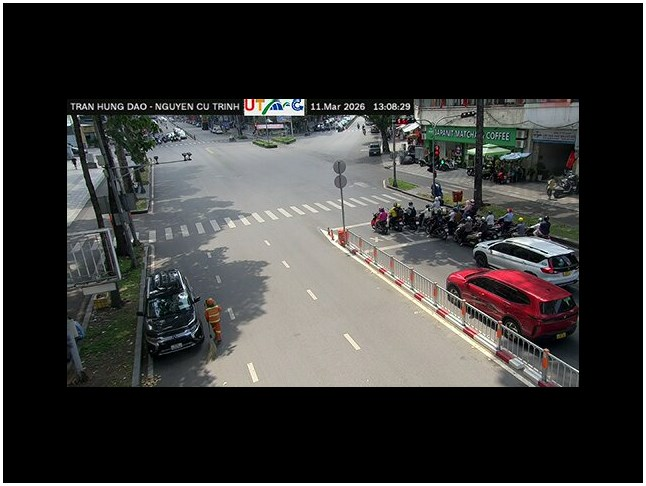bus: (444, 265, 578, 344)
car: (446, 265, 579, 344), (141, 265, 205, 359), (472, 235, 579, 287)
motorbike: (371, 207, 390, 235)
